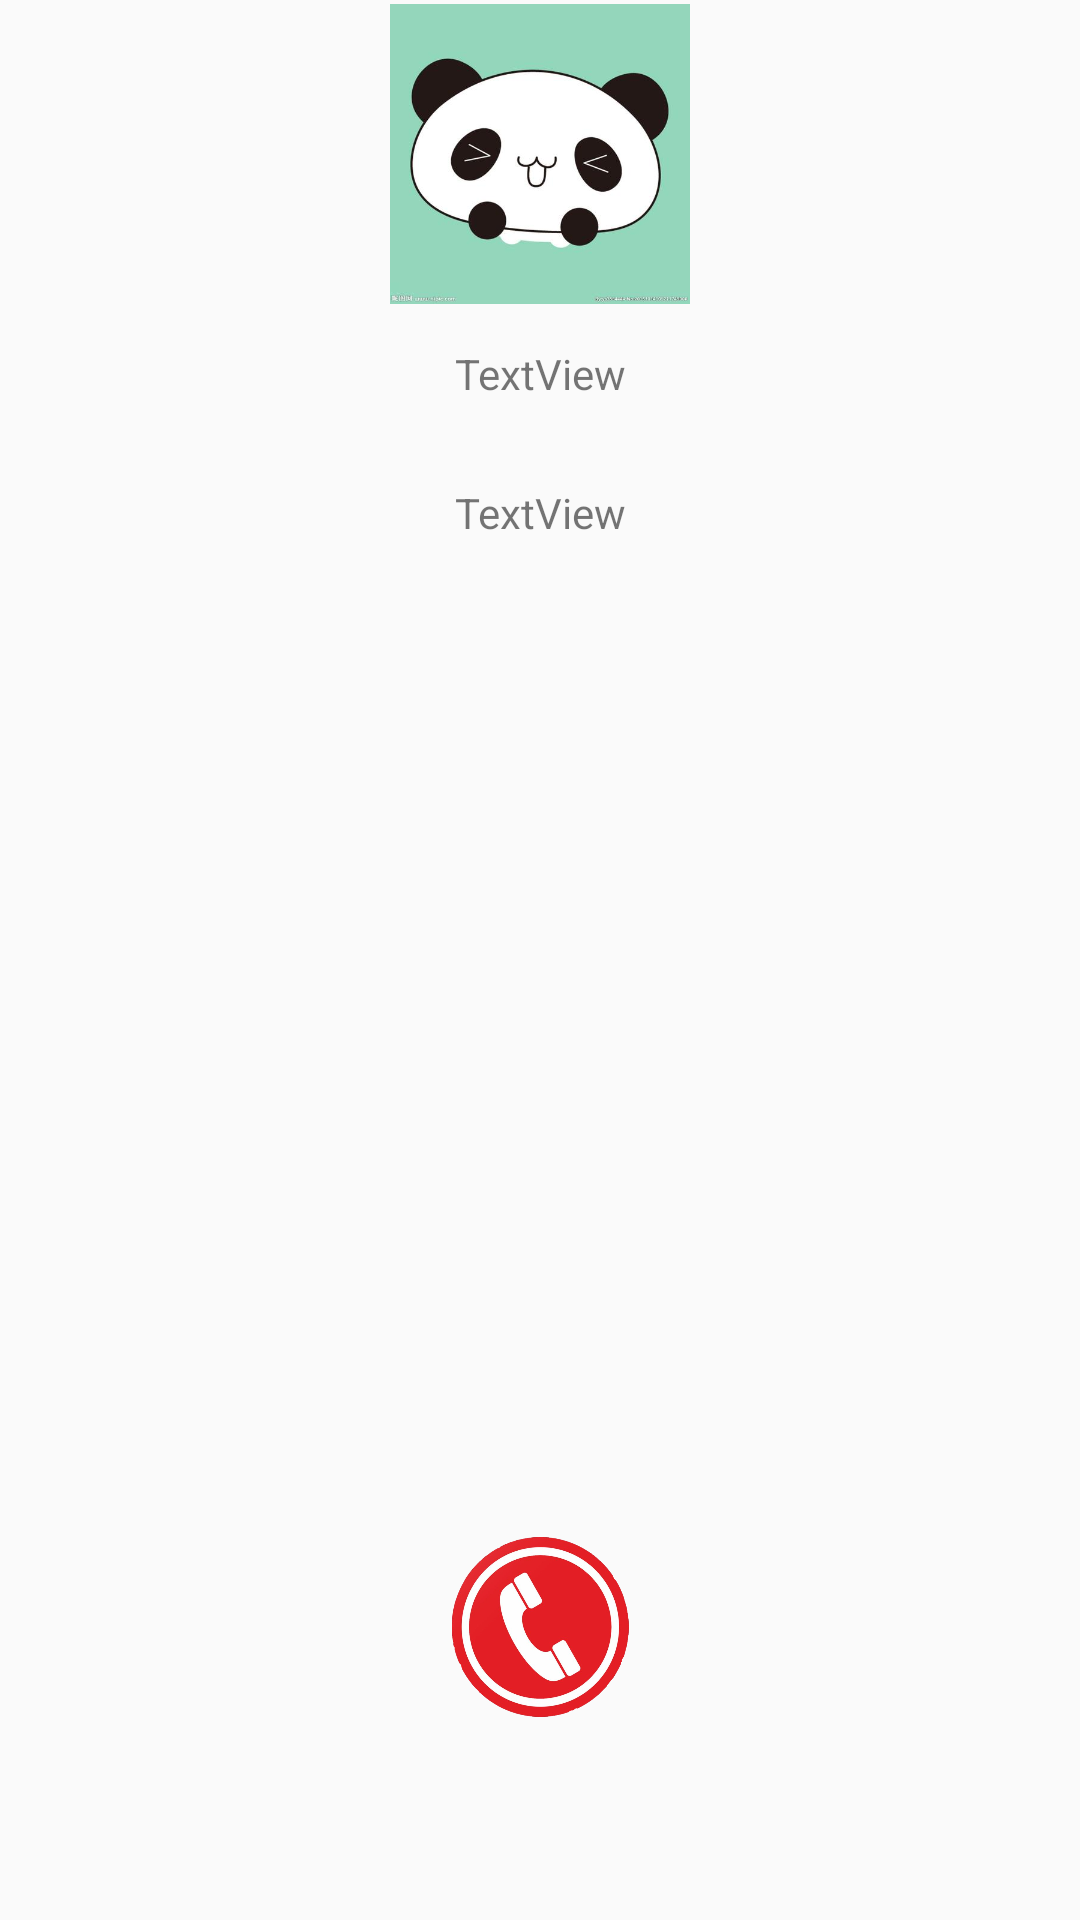

Named icons in this screenshot (1080x1920) and their centers, (x=x, y=y):
hangup: (x=540, y=1627)
